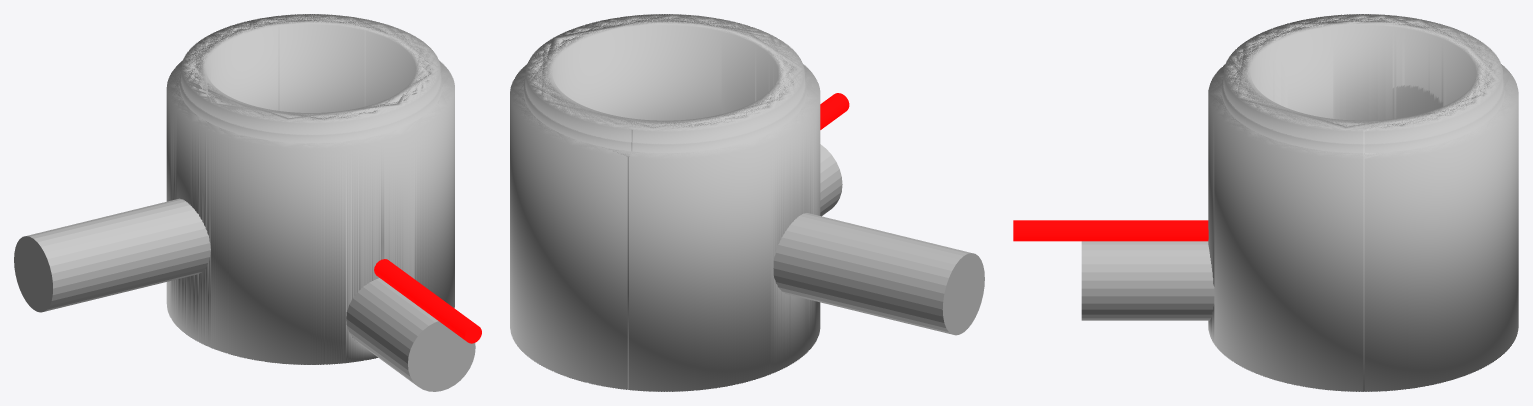
Rendered from LOT129_4c78ec54.glb.
The picture shows the model from 3 angles, left to right: view 1: azimuth 30°, elevation 25°; view 2: azimuth 150°, elevation 25°; view 3: azimuth 270°, elevation 25°; orthographic projection. The views are drawn at different scales.
Visible parts, largest first — view 1: 1200x1.219r_Obj, Cylinder.005; view 2: 1200x1.219r_Obj, Cylinder.005; view 3: 1200x1.219r_Obj, Cylinder.005.
Boxes of the visible parts, x1,y1,x2,y2 form: 1200x1.219r_Obj: [14, 14, 475, 391]; Cylinder.005: [374, 259, 481, 343]; 1200x1.219r_Obj: [510, 14, 984, 391]; Cylinder.005: [820, 93, 849, 129]; 1200x1.219r_Obj: [1081, 14, 1518, 391]; Cylinder.005: [1013, 220, 1208, 241].
Size of the model in its own units: 2.37 by 1.33 by 2.4.
